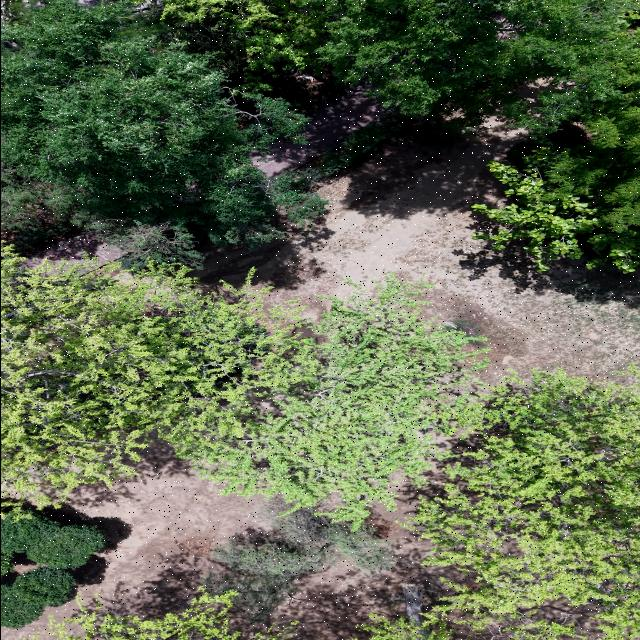DRY_AREA: (198, 120, 639, 383), (200, 122, 639, 383), (67, 441, 269, 616), (251, 87, 385, 176), (251, 87, 384, 176)
VEGETATION_TREE: (1, 0, 639, 639), (2, 250, 636, 627), (2, 0, 639, 269), (2, 250, 483, 526), (163, 0, 639, 270), (172, 274, 485, 528), (2, 0, 323, 244), (368, 367, 639, 639), (1, 250, 283, 502), (163, 0, 639, 133), (248, 0, 637, 129), (473, 6, 639, 271), (51, 510, 390, 639), (472, 76, 639, 271), (206, 509, 392, 619), (540, 67, 639, 271), (472, 147, 597, 269), (1, 507, 110, 627), (205, 539, 330, 619), (50, 590, 240, 639), (273, 509, 392, 573), (303, 116, 402, 181), (85, 218, 202, 269), (1, 511, 103, 568), (1, 566, 74, 627), (317, 522, 392, 573), (359, 612, 451, 639), (359, 614, 448, 639)
